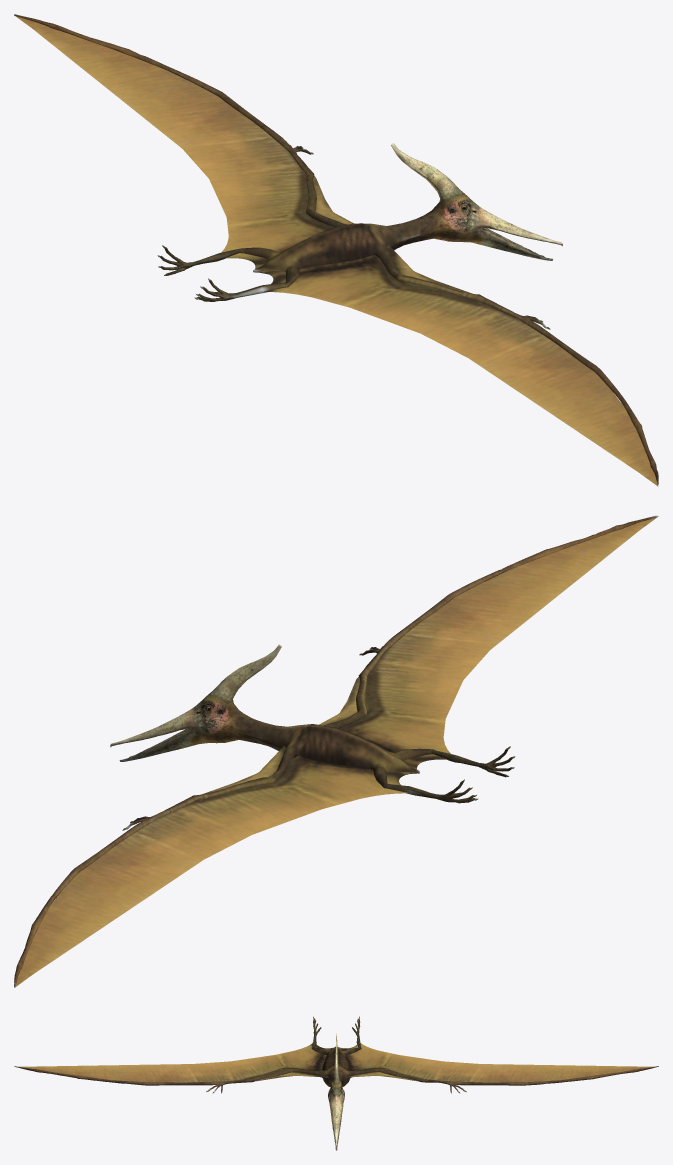
File: pterodactyl.gltf
3 renders of one model, top to bottom at view 1: azimuth 30°, elevation 25°; view 2: azimuth 150°, elevation 25°; view 3: azimuth 270°, elevation 25°, orthographic. The views are drawn at different scales.
Parts seen in each view (by area): view 1: 3DSMeshMatrix (×3); view 2: 3DSMeshMatrix (×3); view 3: 3DSMeshMatrix (×3).
Boxes of the visible parts, left/top/right/bottom form: 3DSMeshMatrix (×3): left=14, top=14, right=658, bottom=486; 3DSMeshMatrix (×3): left=14, top=515, right=658, bottom=987; 3DSMeshMatrix (×3): left=14, top=1016, right=658, bottom=1150.
Bounding box in the file's own units: 5013 × 1942 × 14493.
Materials: 4 (4 with a texture image).
